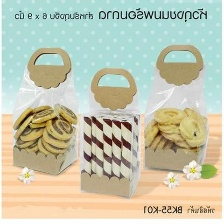snack: (7, 41, 86, 180), (139, 38, 215, 176), (74, 61, 148, 201)
